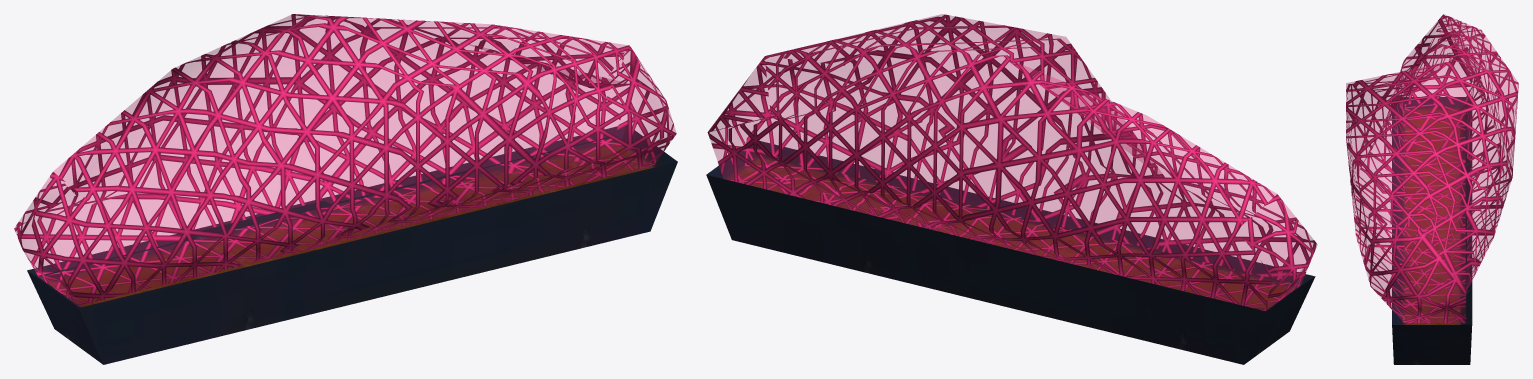
The model's file is ts-plant-pot.glb.
3 views of the same model, side by side, from view 1: azimuth 30°, elevation 25°; view 2: azimuth 150°, elevation 25°; view 3: azimuth 270°, elevation 25° (orthographic). The views are drawn at different scales.
Visible parts, largest first — view 1: Pot_01_Plant, Pot_01; view 2: Pot_01_Plant, Pot_01; view 3: Pot_01_Plant, Pot_01.
Boxes of the visible parts, x1,y1,x2,y2 form: Pot_01_Plant: [14, 14, 676, 305]; Pot_01: [27, 125, 677, 364]; Pot_01_Plant: [707, 14, 1317, 311]; Pot_01: [706, 141, 1315, 364]; Pot_01_Plant: [1346, 14, 1518, 323]; Pot_01: [1392, 97, 1472, 364].
Bounding box in the file's own units: 2.07 × 0.7946 × 0.6262.
2 materials, 2 textured.
